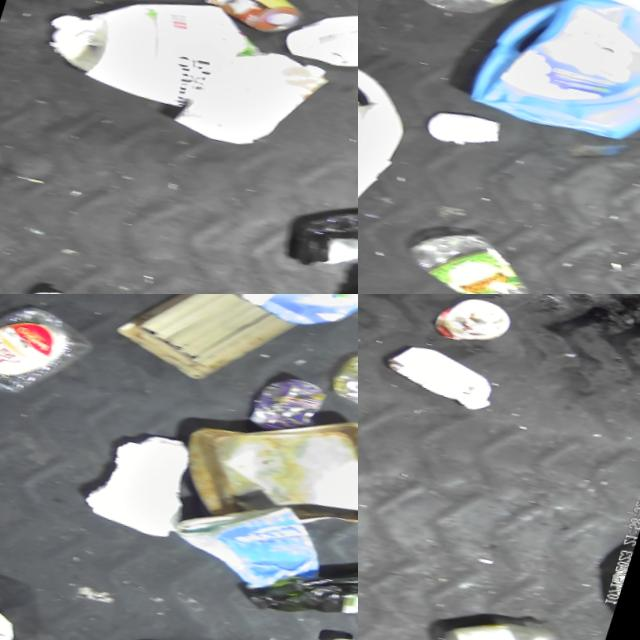can: (396, 214, 577, 294), (429, 294, 521, 357), (195, 0, 317, 46)
milk_jug: (171, 34, 340, 165), (358, 38, 439, 245), (280, 0, 358, 88), (0, 561, 53, 640)
non_white_jug: (455, 0, 640, 161)
